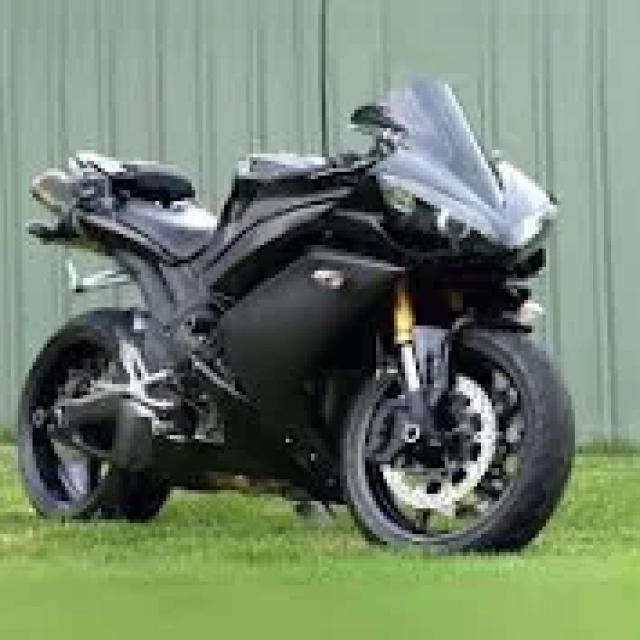motorcycle: (14, 73, 575, 556)
